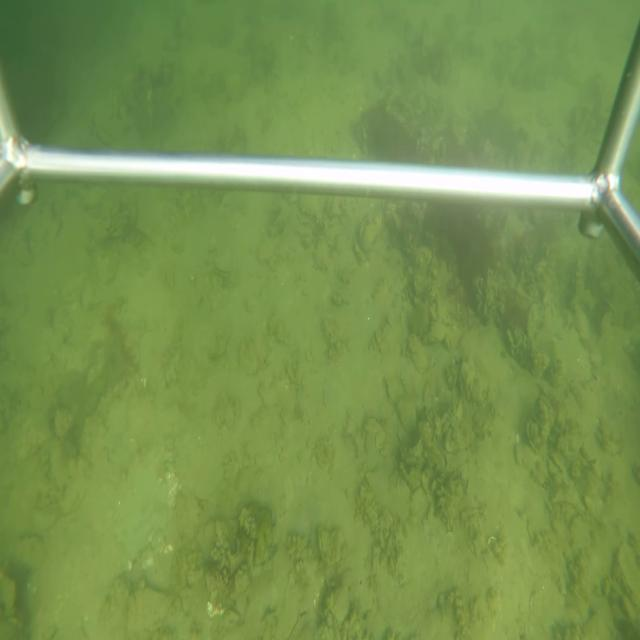Oyster-Closed: (314, 524, 345, 571), (357, 210, 383, 262)
